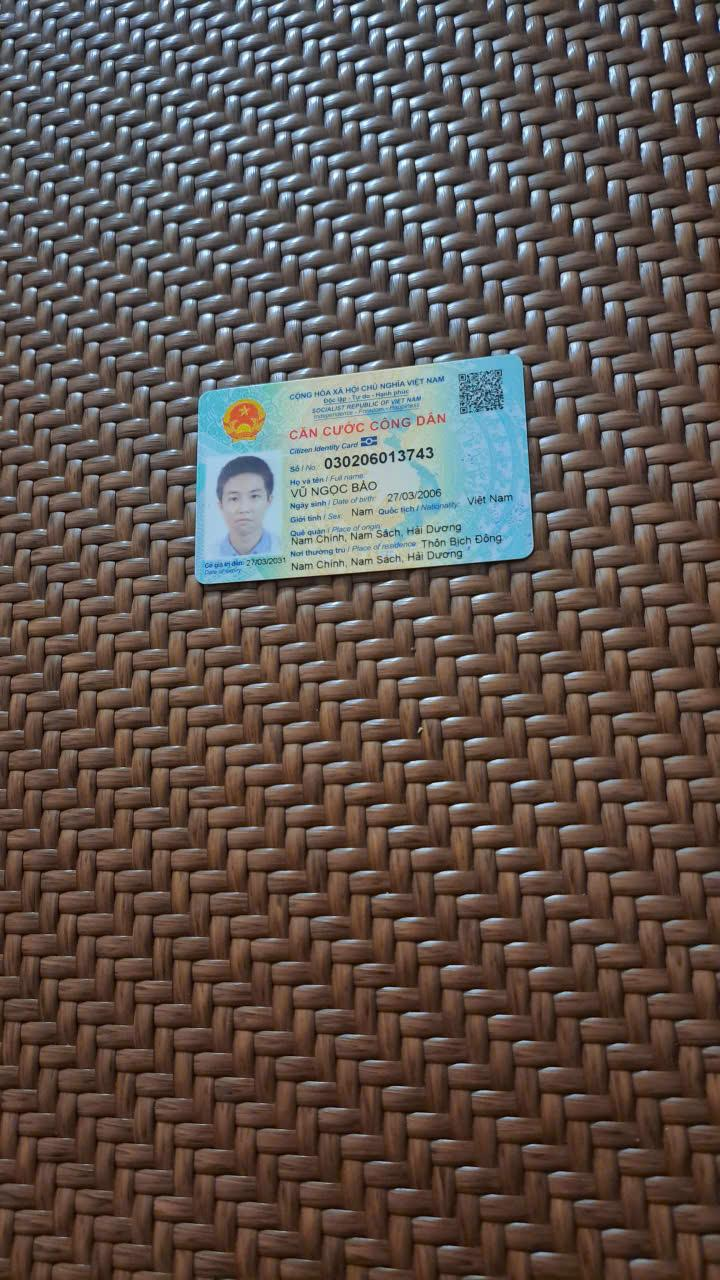cccd: (188, 347, 540, 595)
